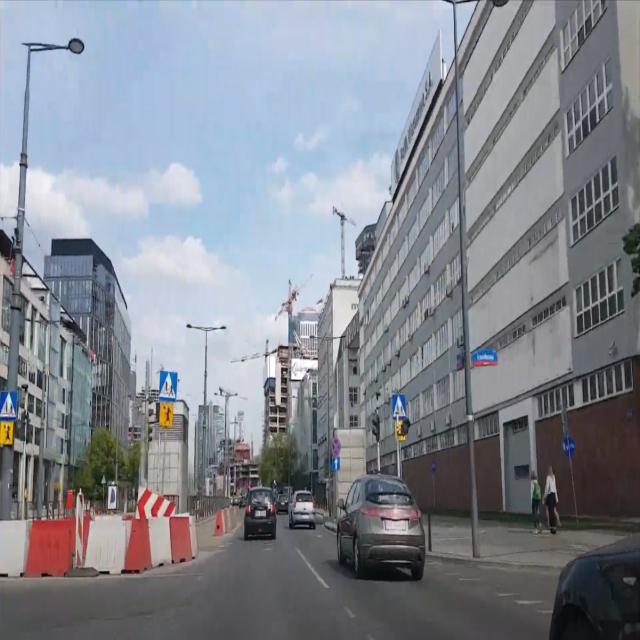Zakaz zatrzymywania sie: (331, 438, 341, 457)
